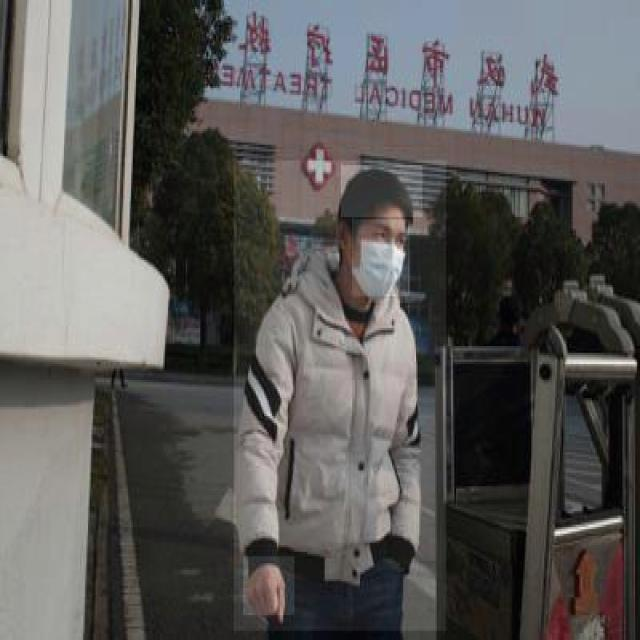face_mask: (352, 220, 410, 296)
hand_noglove: (242, 556, 294, 618)
head_nohelmet: (340, 165, 422, 219)
person: (232, 161, 446, 633)
